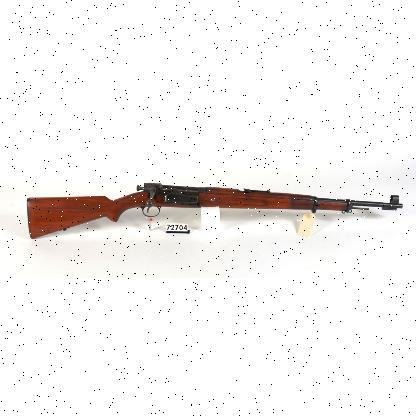gun: (30, 181, 402, 237)
